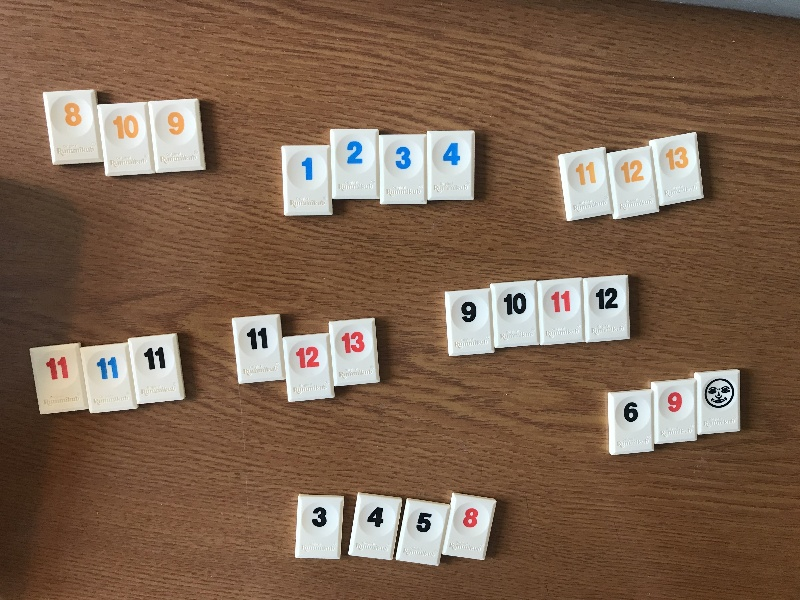single_tile: (38, 84, 105, 169), (146, 96, 210, 175), (96, 102, 156, 180), (29, 341, 90, 415), (557, 145, 614, 223), (648, 131, 706, 206), (326, 126, 382, 203), (82, 341, 139, 416), (607, 144, 661, 222), (128, 333, 186, 405), (230, 313, 287, 384), (280, 144, 333, 220), (377, 132, 430, 207), (329, 318, 382, 391), (396, 498, 450, 569), (348, 493, 402, 563), (283, 333, 335, 404), (444, 491, 495, 563), (444, 287, 497, 356), (294, 493, 346, 562), (487, 279, 539, 347), (426, 130, 475, 201), (609, 387, 657, 456), (585, 273, 631, 344), (538, 277, 585, 346), (652, 378, 699, 444), (694, 370, 742, 434)
tile_row: (277, 124, 479, 222), (37, 87, 213, 185), (293, 488, 498, 570), (442, 275, 632, 357), (555, 128, 708, 223), (230, 312, 383, 403), (30, 332, 187, 416), (607, 370, 742, 457)
